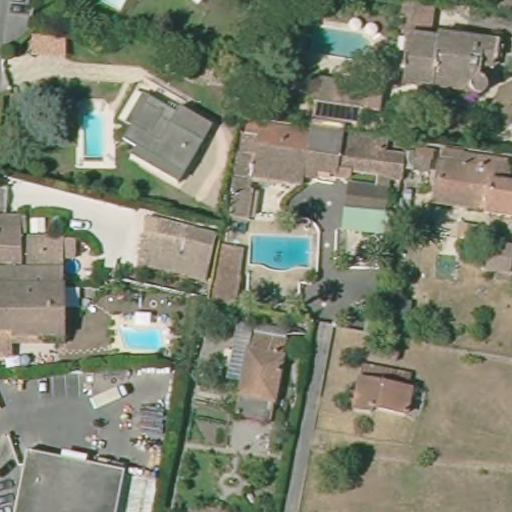pool: (292, 20, 376, 68), (243, 230, 318, 274), (114, 318, 176, 357), (76, 109, 111, 165), (62, 254, 81, 277)
